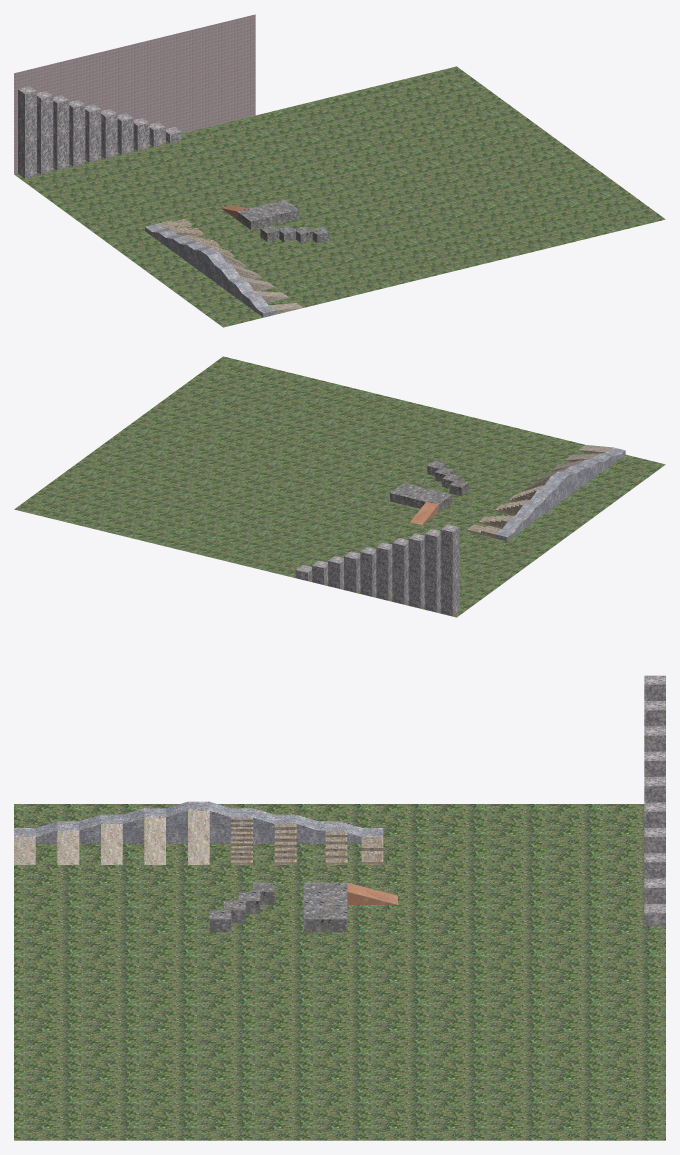
Rendered from playground.glb.
3 renders of one model, top to bottom at view 1: azimuth 30°, elevation 25°; view 2: azimuth 150°, elevation 25°; view 3: azimuth 270°, elevation 25°, orthographic. The views are drawn at different scales.
Parts seen in each view (by area): view 1: floor-col, Jump Height Wall-col, Slope Back-col, 20 Meter Box-col, 18 Meter Box-col, 16 Meter Box-col, Jump Box-col, 14 Meter Box-col, Stair Back-col, 12 Meter Box-col, 10 Meter Box-col, 8 Meter Box-col (+1 smaller); view 2: floor-col, 20 Meter Box-col, Slope Back-col, 18 Meter Box-col, Stair Back-col, 16 Meter Box-col, Jump Box-col, 14 Meter Box-col, 12 Meter Box-col, 10 Meter Box-col, 8 Meter Box-col, 6 Meter Box-col; view 3: floor-col, Slope Back-col, Stair Back-col, Jump Box-col, 6-5 Slope-col, 6-4 Slope-col, Stair 4 Meter-col, Stair 3 Meter-col, 6-3 Slope-col, Distance Jump Ramp-col, 6-2 Slope-col, Stair 2 Meter-col.
Boxes of the visible parts, x1,y1,x2,y2 form: floor-col: (14,66,665,327); Jump Height Wall-col: (14,14,255,174); Slope Back-col: (193,247,275,317); 20 Meter Box-col: (18,86,36,178); 18 Meter Box-col: (37,91,53,174); 16 Meter Box-col: (53,95,69,170); Jump Box-col: (237,199,299,229); 14 Meter Box-col: (69,99,85,166); Stair Back-col: (145,224,205,266); 12 Meter Box-col: (85,104,101,162); 10 Meter Box-col: (101,109,117,158); 8 Meter Box-col: (117,113,133,154); floor-col: (14,356,665,617); 20 Meter Box-col: (440,524,459,616); Slope Back-col: (544,447,625,505); 18 Meter Box-col: (424,529,440,612); Stair Back-col: (495,486,555,541); 16 Meter Box-col: (408,533,424,608); Jump Box-col: (390,483,452,512); 14 Meter Box-col: (392,538,408,604); 12 Meter Box-col: (376,542,392,600); 10 Meter Box-col: (360,547,376,596); 8 Meter Box-col: (344,551,360,592); 6 Meter Box-col: (328,556,343,588); floor-col: (14,804,665,1140); Slope Back-col: (14,801,231,843); Stair Back-col: (231,808,383,843); Jump Box-col: (303,882,347,932); 6-5 Slope-col: (188,811,209,864); 6-4 Slope-col: (144,817,165,864); Stair 4 Meter-col: (231,817,252,864); Stair 3 Meter-col: (274,824,296,864); 6-3 Slope-col: (101,824,122,864); Distance Jump Ramp-col: (347,882,397,904); 6-2 Slope-col: (57,830,79,864); Stair 2 Meter-col: (325,830,347,864).
Size of the model in its own units: 110 by 24 by 90.
Materials: 8 (8 with a texture image).
